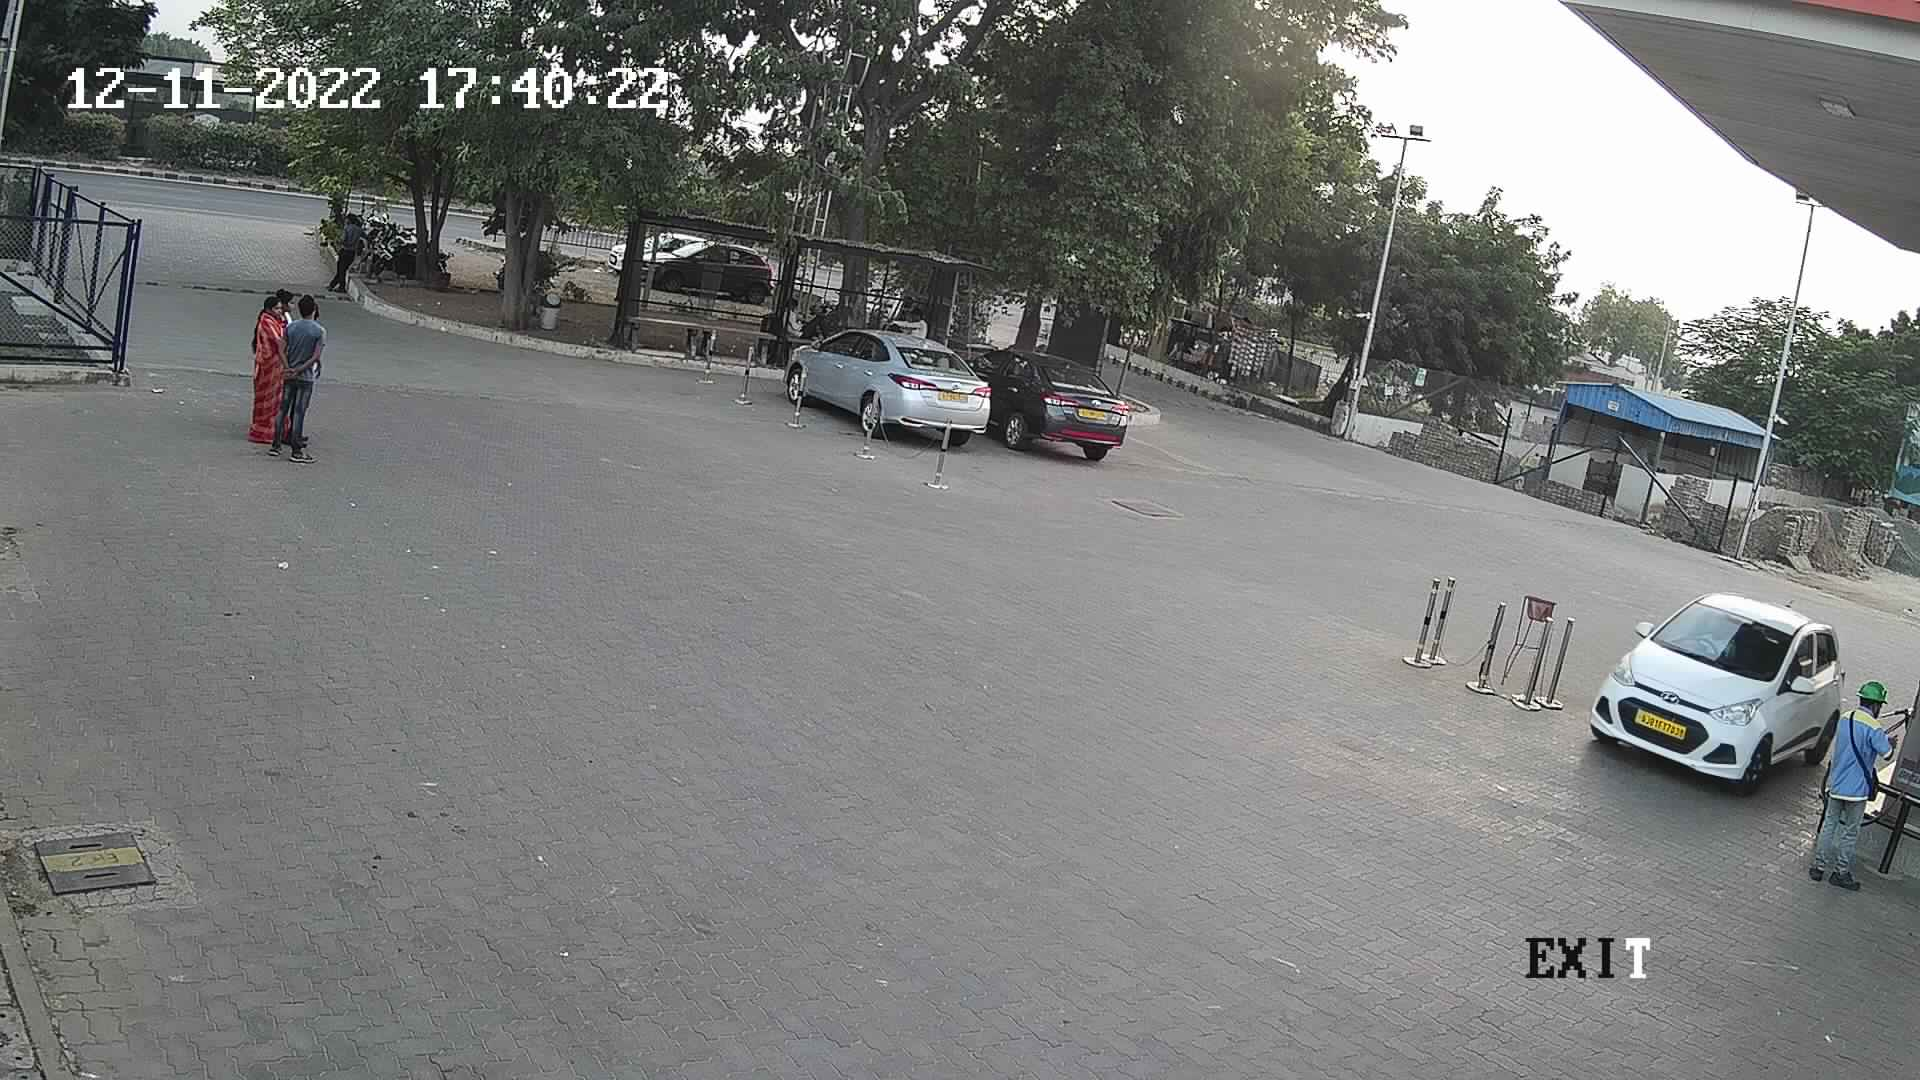Car: (1571, 576, 1861, 795), (782, 309, 1007, 452), (969, 344, 1138, 462), (633, 236, 779, 302), (597, 224, 703, 276)
Others: (1803, 671, 1898, 897)
